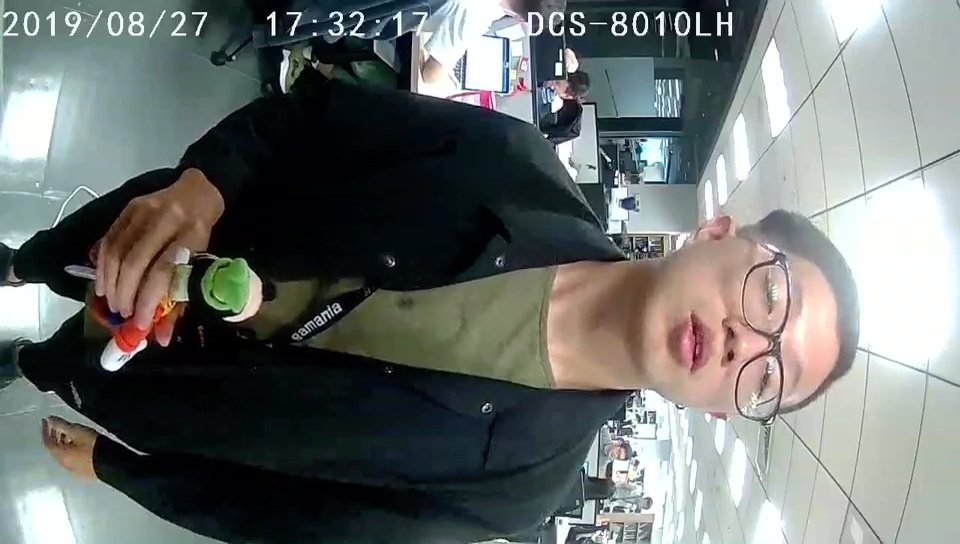goofy: (87, 249, 264, 373)
